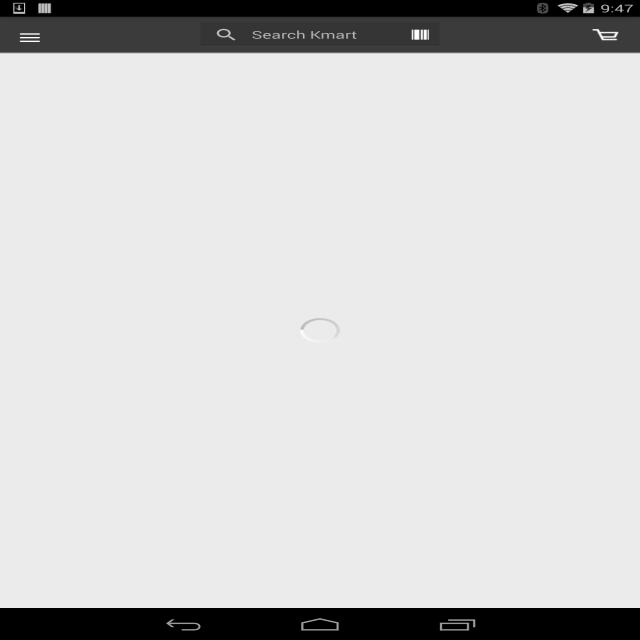ImageButton: (0, 20, 60, 56)
ImageView: (0, 268, 640, 640), (206, 100, 380, 200), (401, 100, 575, 200), (11, 100, 184, 200), (596, 100, 640, 200), (200, 23, 252, 46), (0, 53, 640, 54), (592, 29, 619, 40), (412, 30, 429, 40)
TextView: (10, 67, 640, 85), (208, 202, 378, 237), (403, 202, 573, 237), (13, 202, 182, 237), (252, 23, 357, 46), (598, 202, 640, 237), (13, 237, 63, 253), (208, 237, 250, 253), (404, 237, 446, 253), (598, 237, 640, 253)
